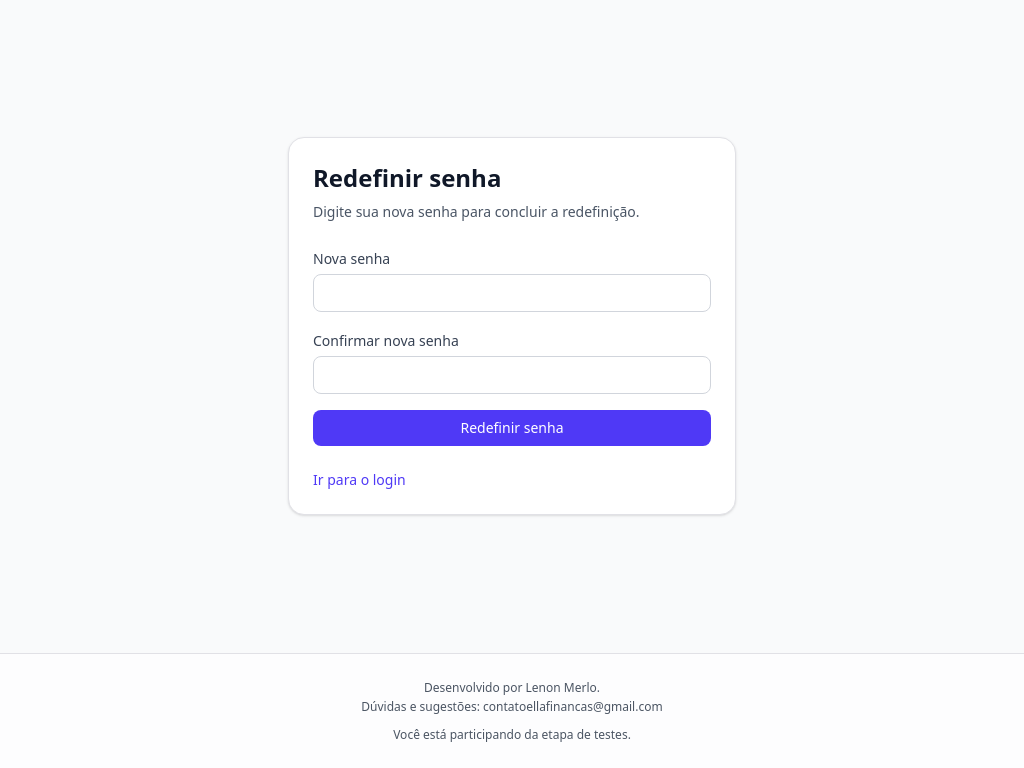
ResetPasswordPage › validates password mismatch
The width and height of the screenshot is (1024, 768).
Type "password123" into the password field labelled "Nova senha" at (512, 293), box [313,274,711,312]
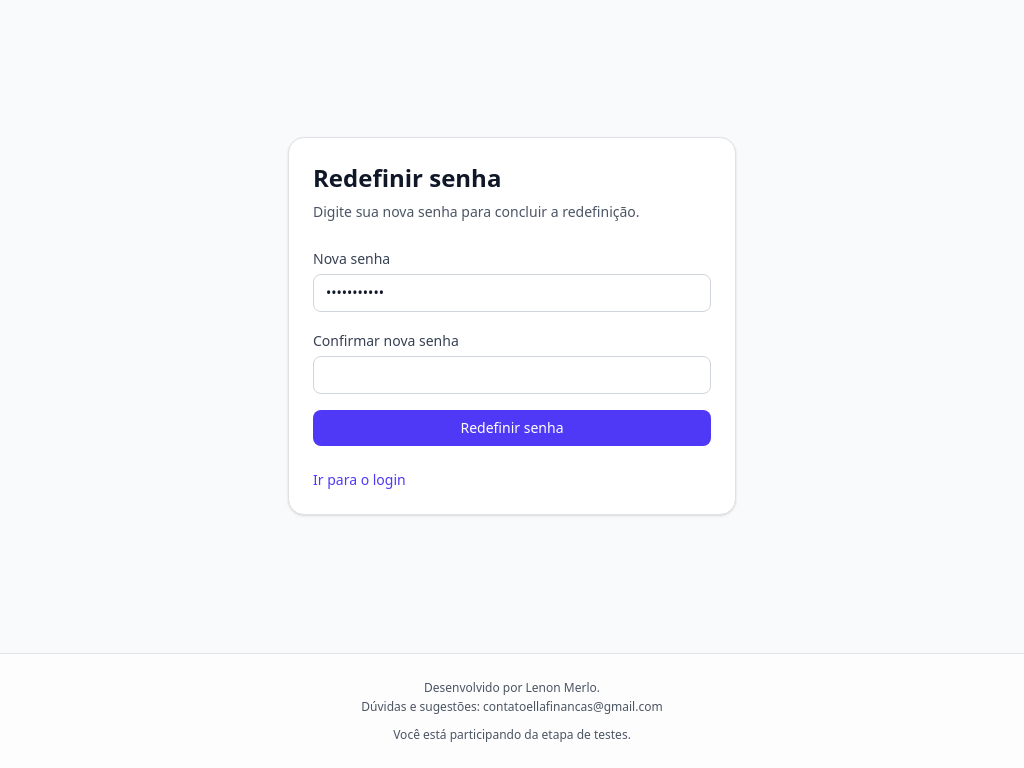
Type "password456" into the password field labelled "Confirmar nova senha" at (512, 375), box [313,356,711,394]
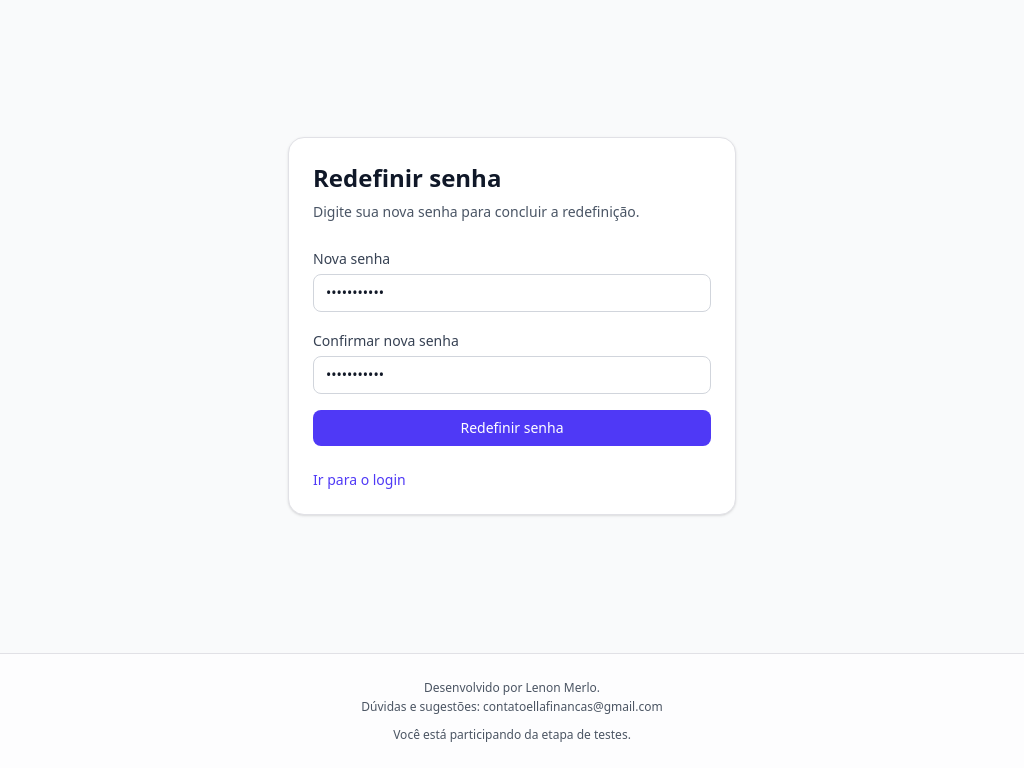
Click the button "Redefinir senha" at (512, 428), box [313,410,711,446]
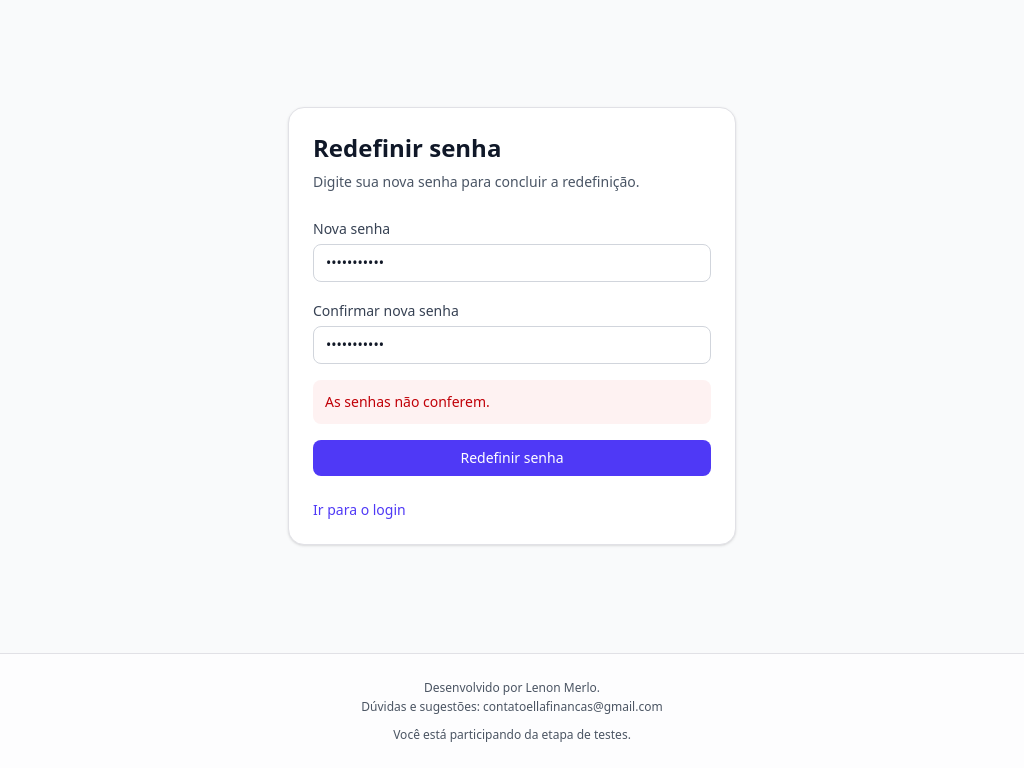
expect the message shows "não conferem": met, box [325,392,490,411]
